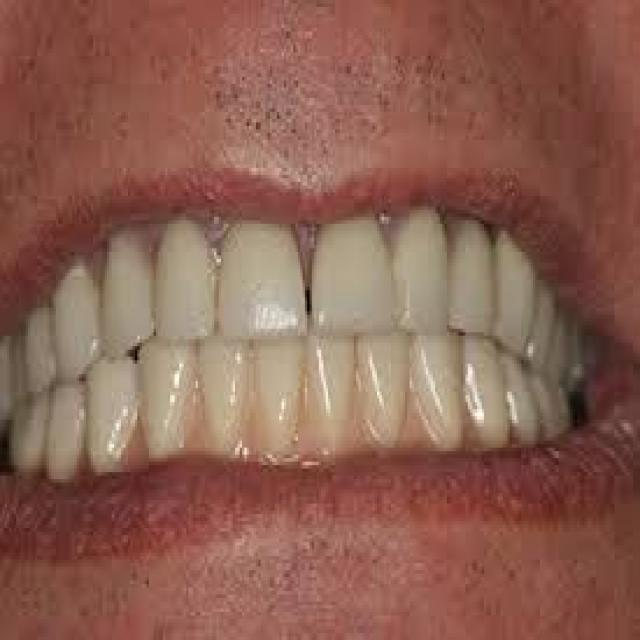tooth: (212, 210, 312, 336), (307, 210, 398, 339), (135, 329, 200, 458), (391, 203, 451, 339), (249, 329, 310, 458), (152, 217, 216, 339), (410, 325, 468, 448), (450, 206, 500, 346), (356, 329, 412, 451), (202, 332, 254, 458), (458, 325, 514, 441), (84, 353, 140, 465), (310, 325, 358, 448), (102, 238, 156, 343), (51, 276, 105, 374)
